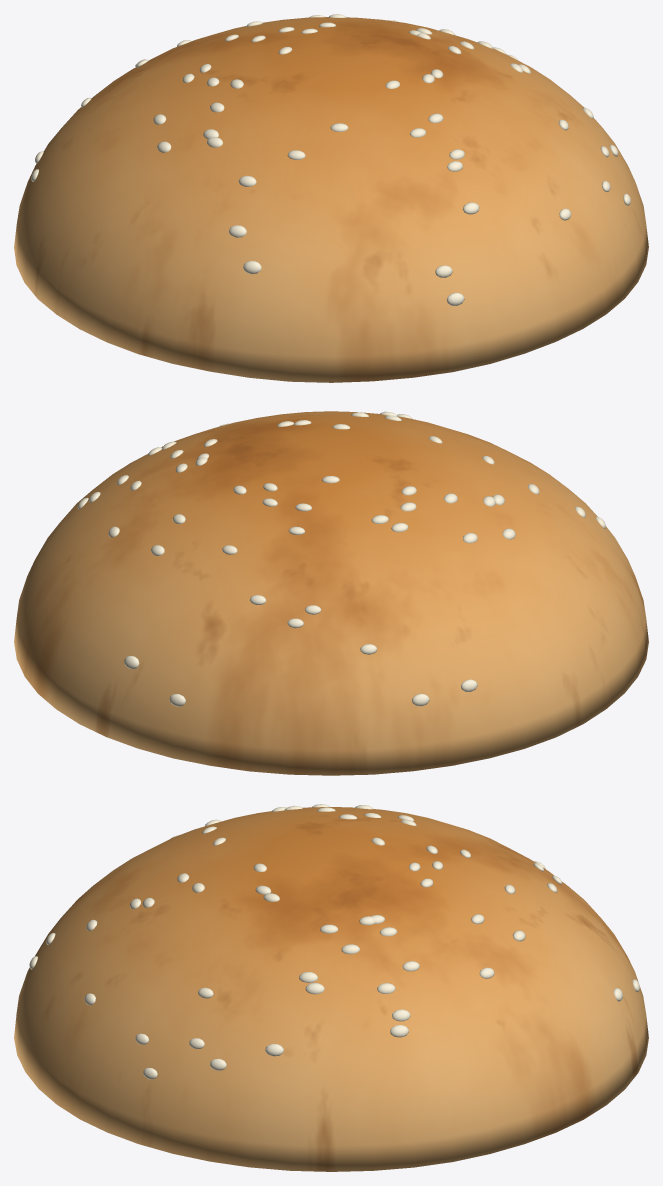
File: bun_top.glb
3 renders of one model, top to bottom at view 1: azimuth 30°, elevation 25°; view 2: azimuth 150°, elevation 25°; view 3: azimuth 270°, elevation 25°, orthographic.
Visible parts, largest first — view 1: bun_top; view 2: bun_top; view 3: bun_top.
Part boxes in pixels (x1,y1,x2,y2): bun_top: (14, 14, 648, 382); bun_top: (14, 411, 648, 775); bun_top: (14, 804, 648, 1171).
Bounding box in the file's own units: 1.04 × 0.3413 × 1.04.
Materials: 3 (2 with a texture image).
